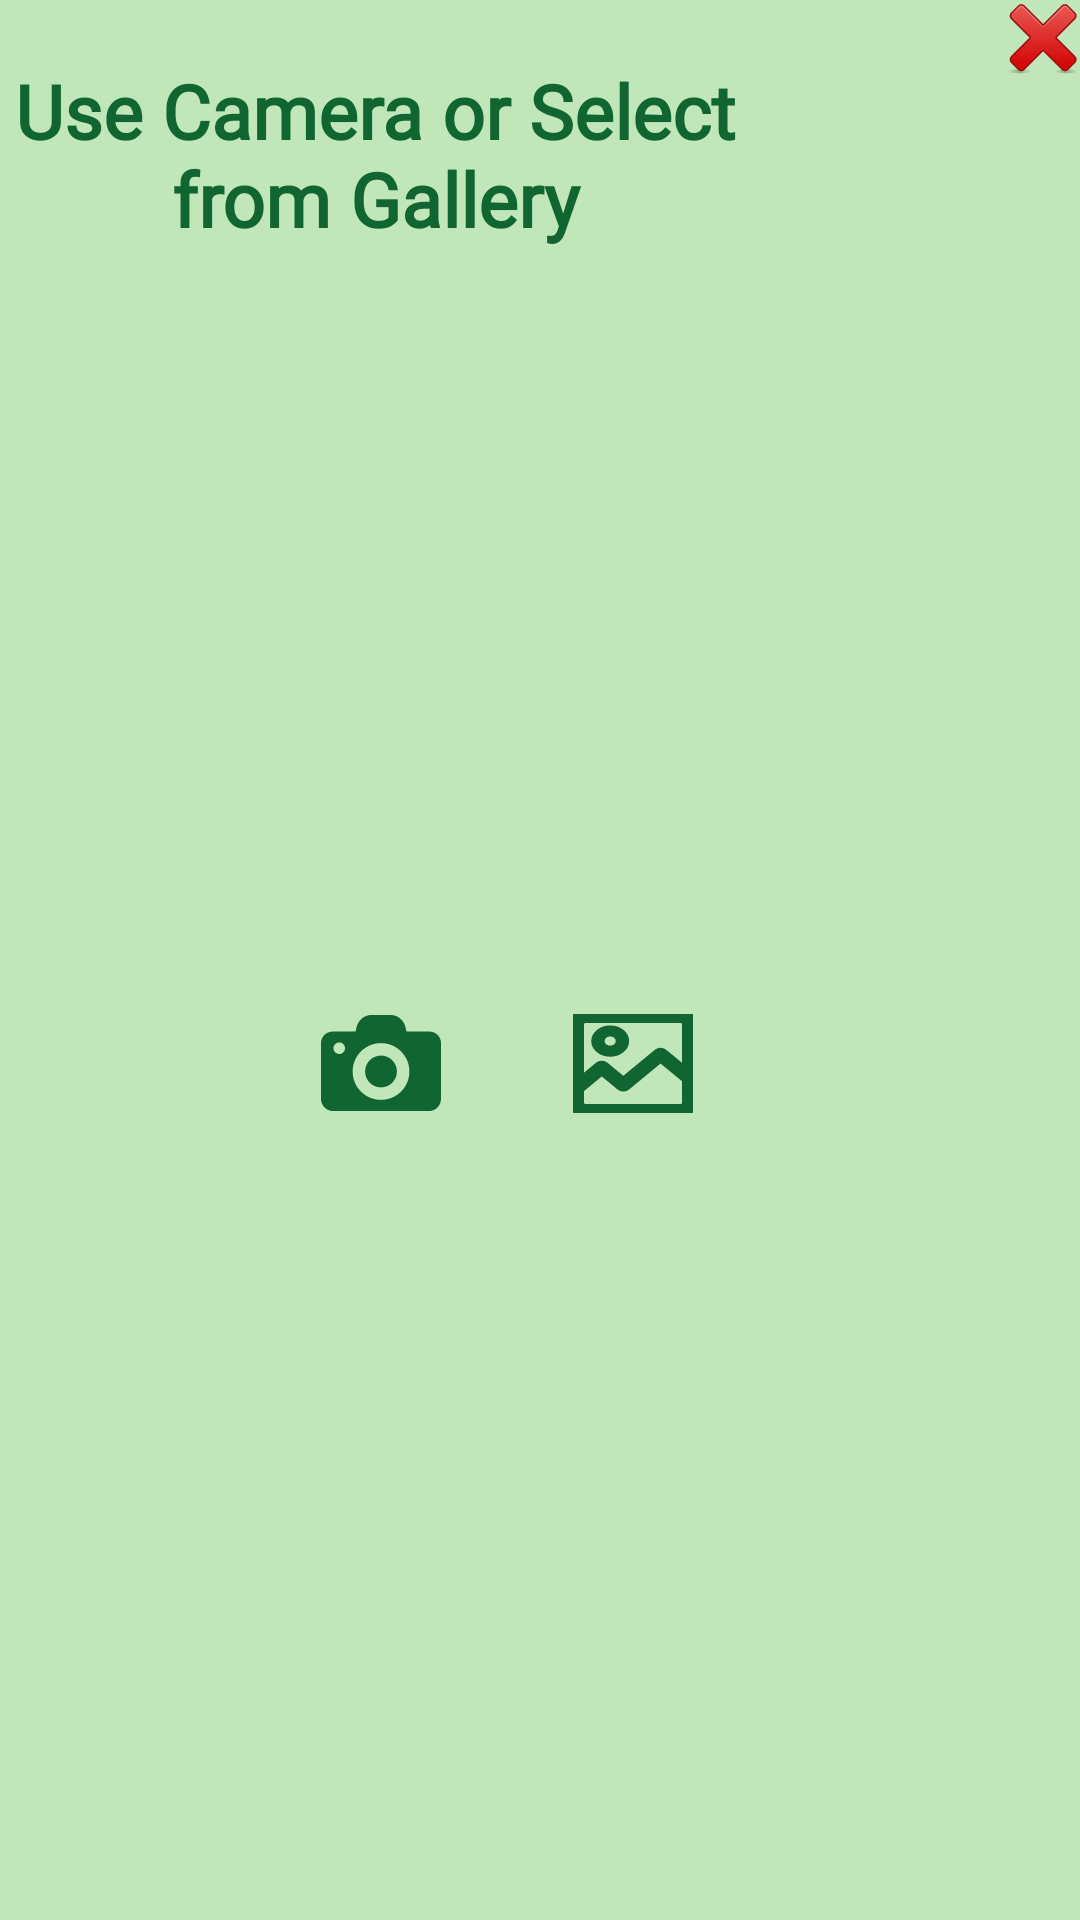

Where to tap for icons on this 1080 × 1920 app screen, as (x,y):
cancel: (1043,38)
